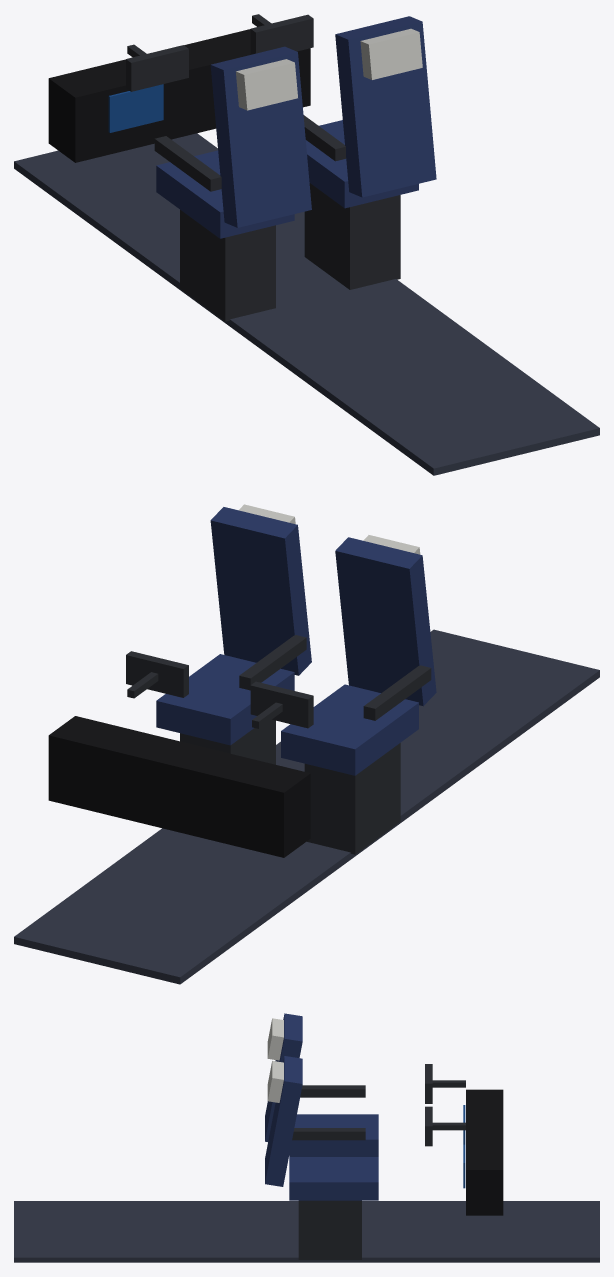
File: lat_light_low_cabin.dae
3 views of the same model, one above another, from view 1: azimuth 30°, elevation 25°; view 2: azimuth 150°, elevation 25°; view 3: azimuth 270°, elevation 25° (orthographic). The views are drawn at different scales.
Visible parts, largest first — view 1: lat_light_low_cabin64; view 2: lat_light_low_cabin64; view 3: lat_light_low_cabin64.
Part boxes in pixels (x1,y1,x2,y2): lat_light_low_cabin64: [14, 14, 599, 475]; lat_light_low_cabin64: [14, 504, 599, 984]; lat_light_low_cabin64: [14, 1013, 599, 1262].
Bounding box in the file's own units: 1.02 × 3.15 × 1.11.
